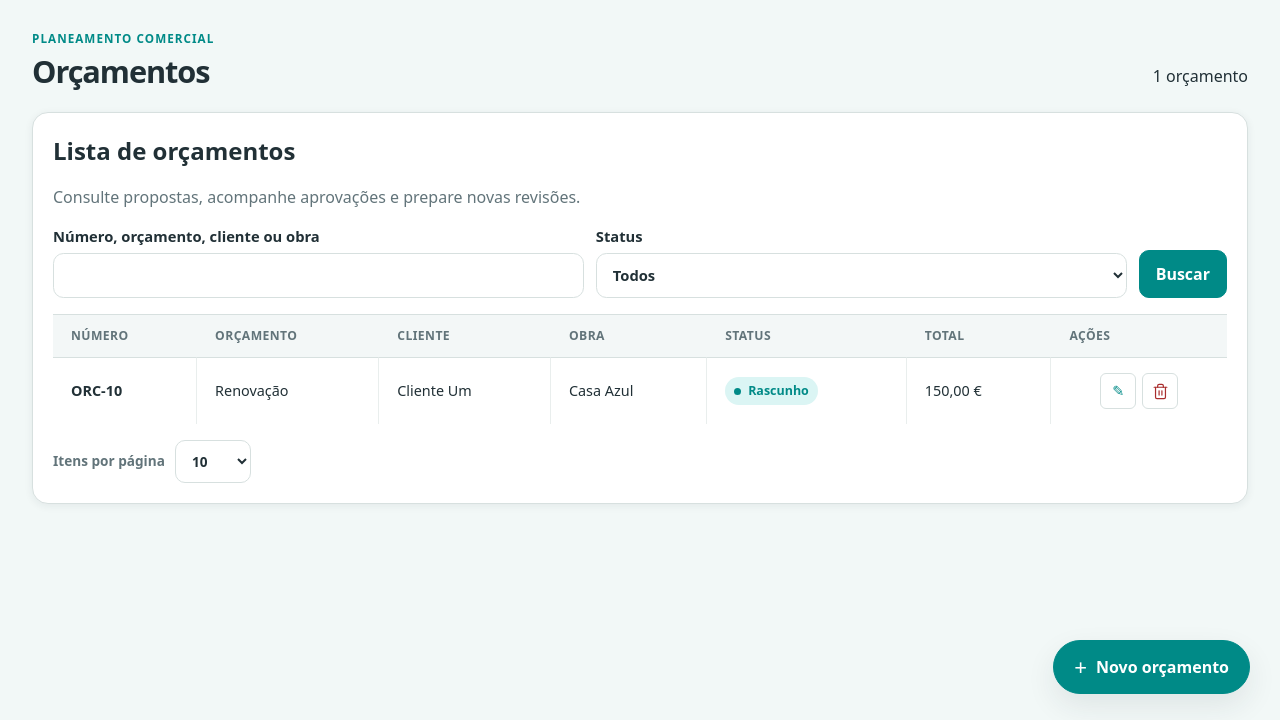
Test case: budget routes › lists and deletes only a draft after confirmation
This screenshot has width=1280, height=720.
Expected: the table named "Lista de orçamentos" is shown, [53,315,1227,424]
Step 1. Click the button named "Excluir ORC-10" → coordinates (1160, 391), box [1142,373,1178,409]
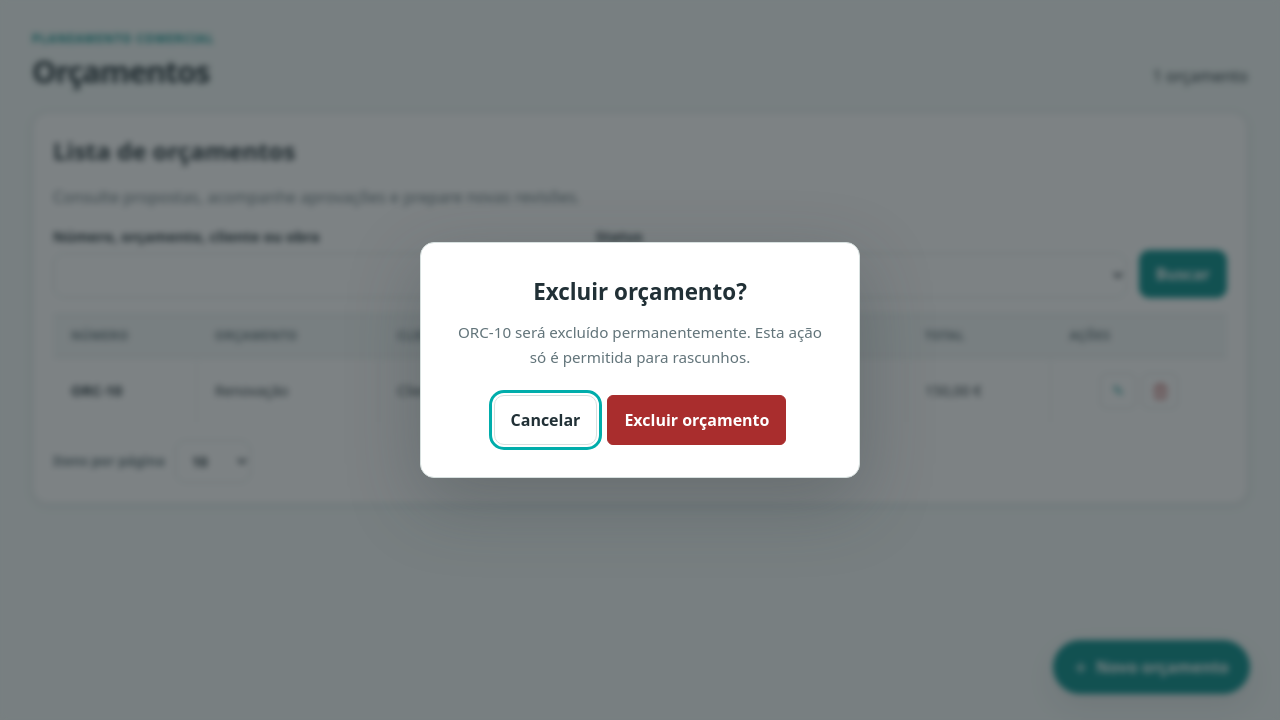
Step 2. Click the button "Excluir orçamento" → coordinates (697, 420), box [607,395,786,445]
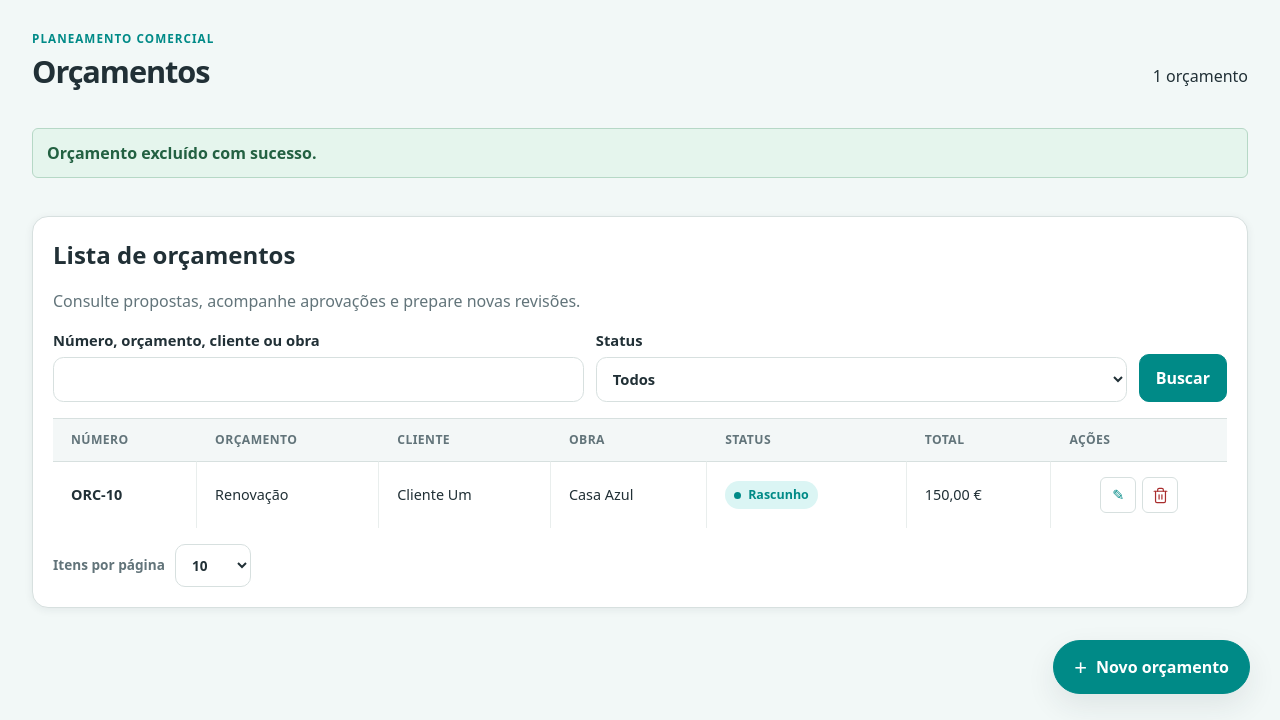
Expected: the text "Orçamento excluído com sucesso." is shown, [32,128,1248,178]
